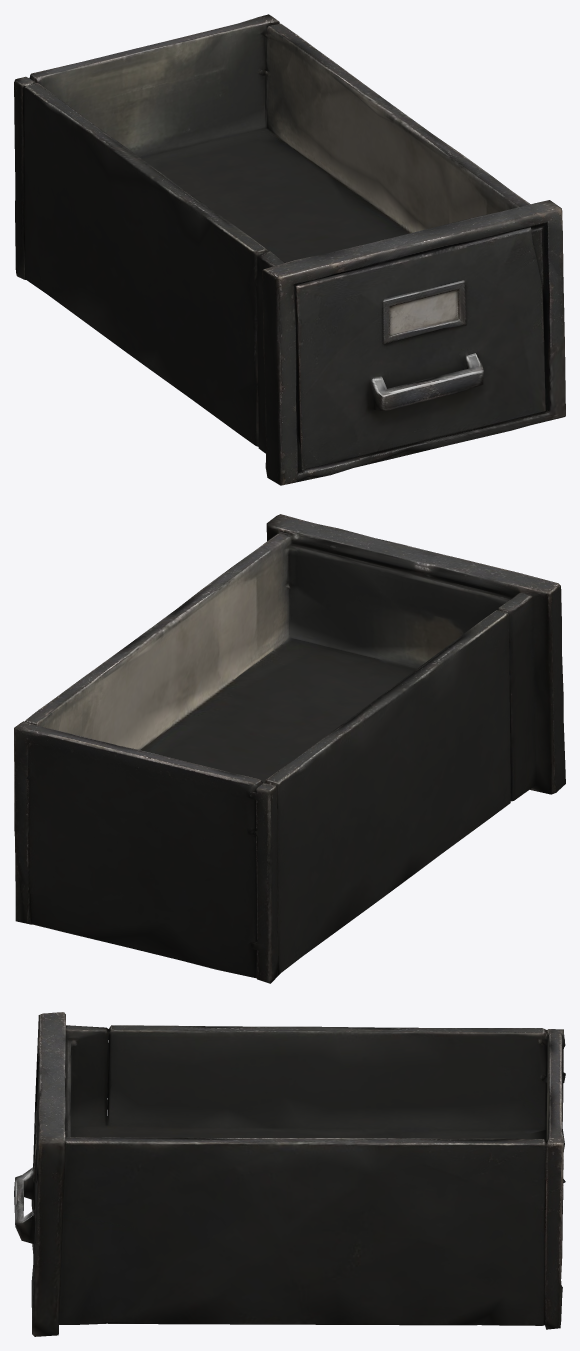
The model's file is filing_drawer_single.glb.
3 views of the same model, one above another, from view 1: azimuth 30°, elevation 25°; view 2: azimuth 150°, elevation 25°; view 3: azimuth 270°, elevation 25° (orthographic). The views are drawn at different scales.
Parts seen in each view (by area): view 1: tripo_node_73adffb1-1313-4240-ae91-111eef510afe; view 2: tripo_node_73adffb1-1313-4240-ae91-111eef510afe; view 3: tripo_node_73adffb1-1313-4240-ae91-111eef510afe.
Part boxes in pixels (box(x1,y1,x2,y2)): tripo_node_73adffb1-1313-4240-ae91-111eef510afe: box(14, 14, 565, 485); tripo_node_73adffb1-1313-4240-ae91-111eef510afe: box(14, 514, 565, 983); tripo_node_73adffb1-1313-4240-ae91-111eef510afe: box(14, 1012, 565, 1336).
Bounding box in the file's own units: 0.5661 × 0.3895 × 1.
1 material, 1 textured.
